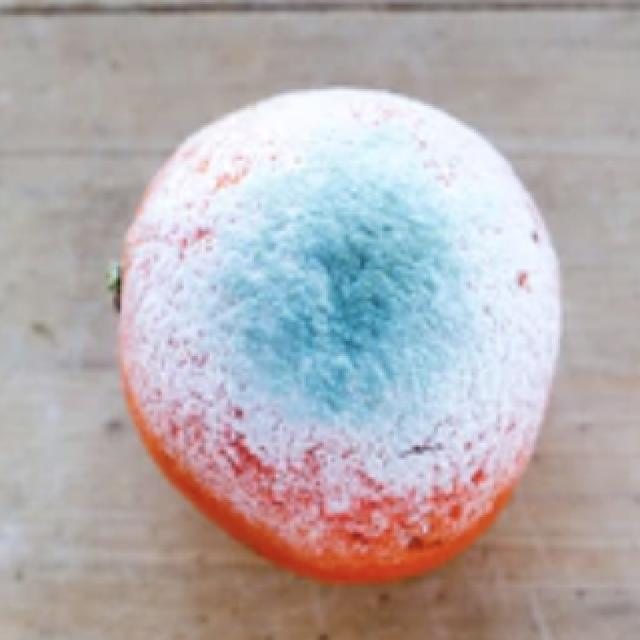rotten-orange: (116, 91, 562, 579)
